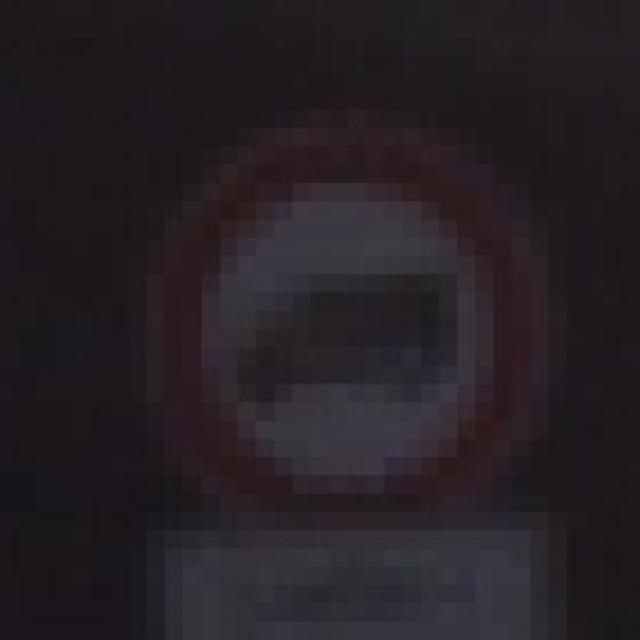Truck traffic is prohibited: (96, 111, 590, 552)
